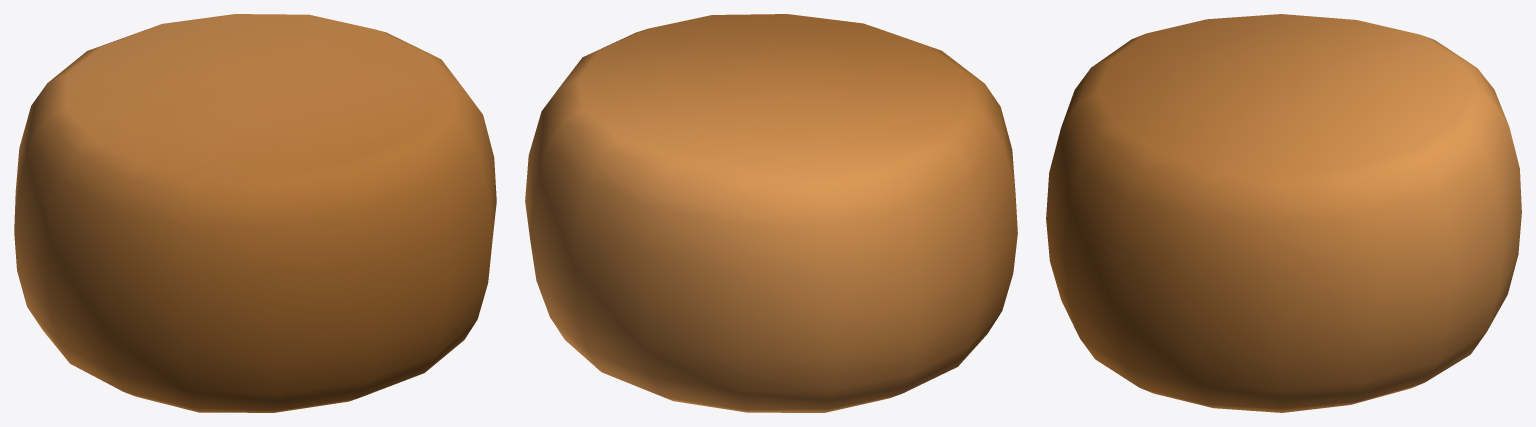
Rendered from Bread_1 Small.fbx.
The picture shows the model from 3 angles, left to right: view 1: azimuth 30°, elevation 25°; view 2: azimuth 150°, elevation 25°; view 3: azimuth 270°, elevation 25°; orthographic projection.
Parts seen in each view (by area): view 1: Bread_1 Small; view 2: Bread_1 Small; view 3: Bread_1 Small.
Boxes of the visible parts, x1=… form: Bread_1 Small: x1=14, y1=14, x2=496, y2=412; Bread_1 Small: x1=525, y1=14, x2=1017, y2=412; Bread_1 Small: x1=1046, y1=14, x2=1521, y2=412.
Bounding box in the file's own units: 0.1149 × 0.0633 × 0.1125.
